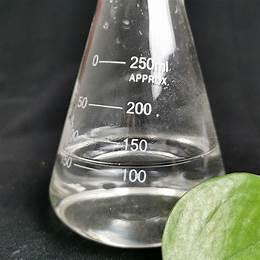Titrarion: (41, 16, 235, 252)
